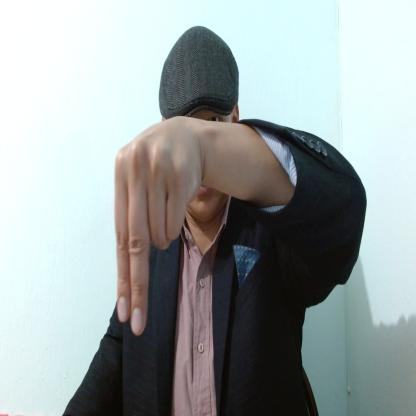N: (115, 119, 207, 335)
